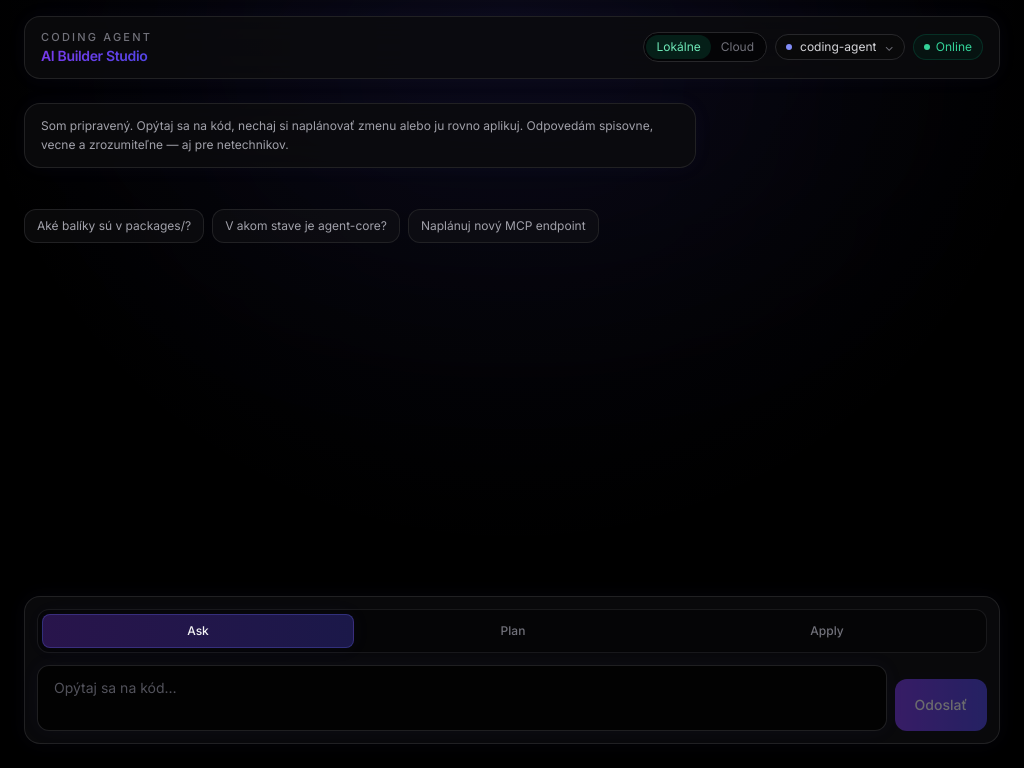
it: ChatApp › sends a message and shows assistant reply
expect the text "Som pripravený" is shown: met, box [41,118,656,152]
In the text box with placeholder "Opýtaj sa na kód…": (462, 698) [37,665,887,731], type "Čo je v agent-core?"
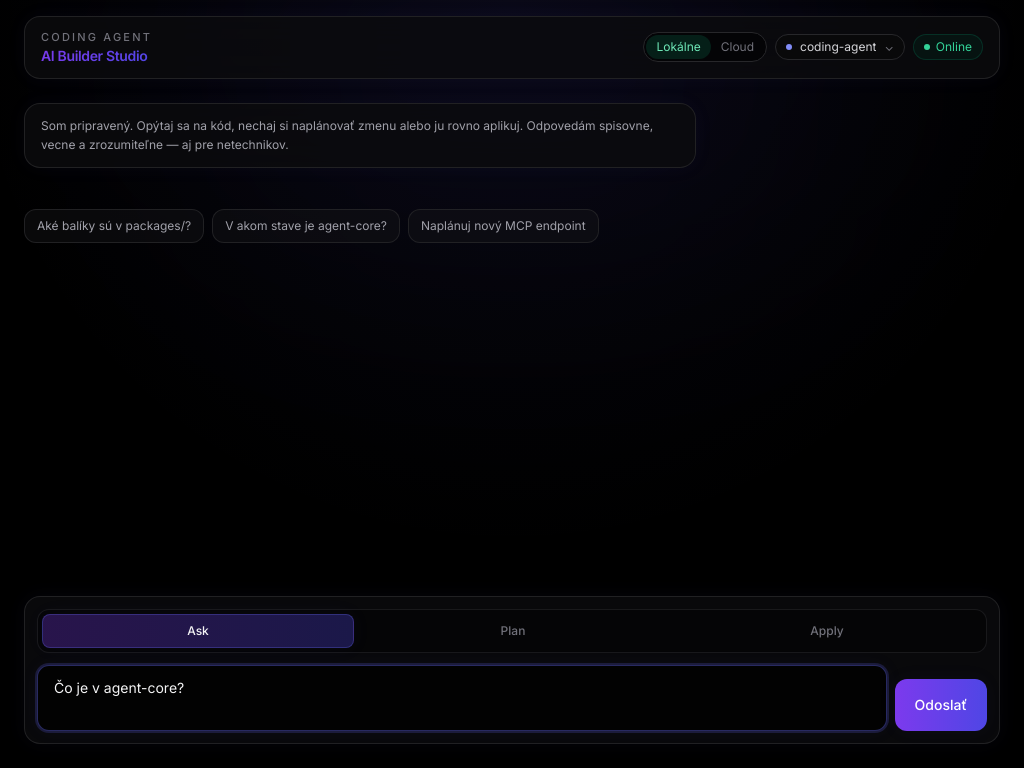
Click the button "Odoslať": (941, 705) [895,679,987,731]
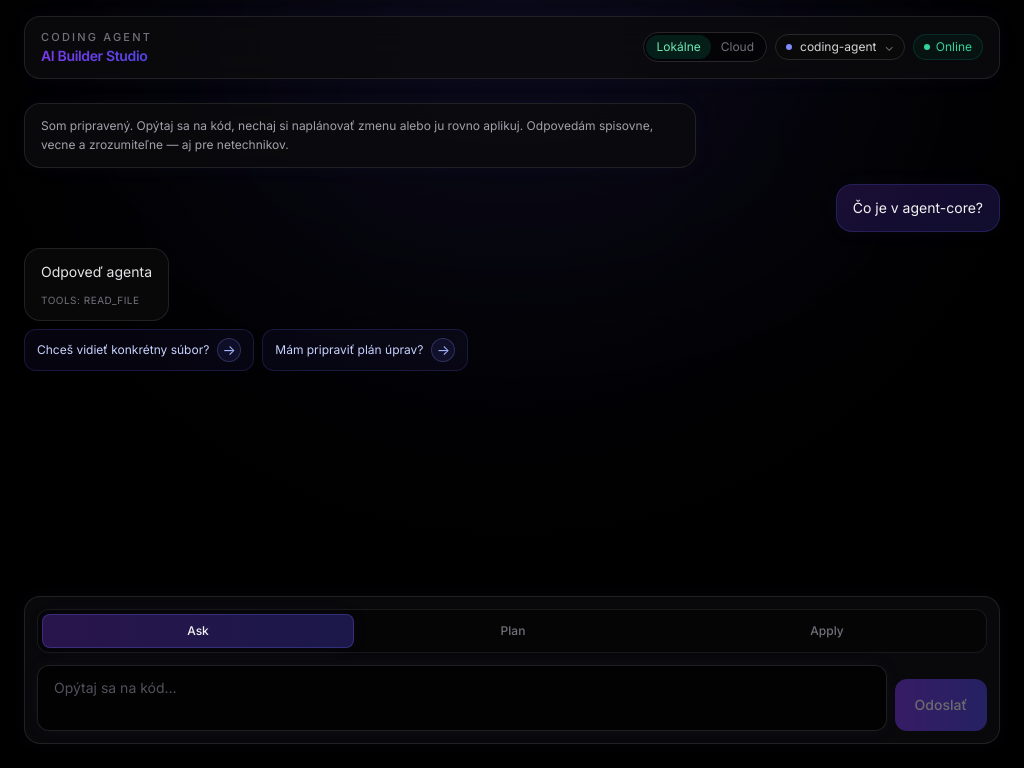
expect the text "Čo je v agent-core?" is shown: met, box [853,196,983,219]
expect the text "Odpoveď agenta" is shown: met, box [41,261,152,284]
expect the text "Tools: read_file" is shown: met, box [41,292,152,308]
